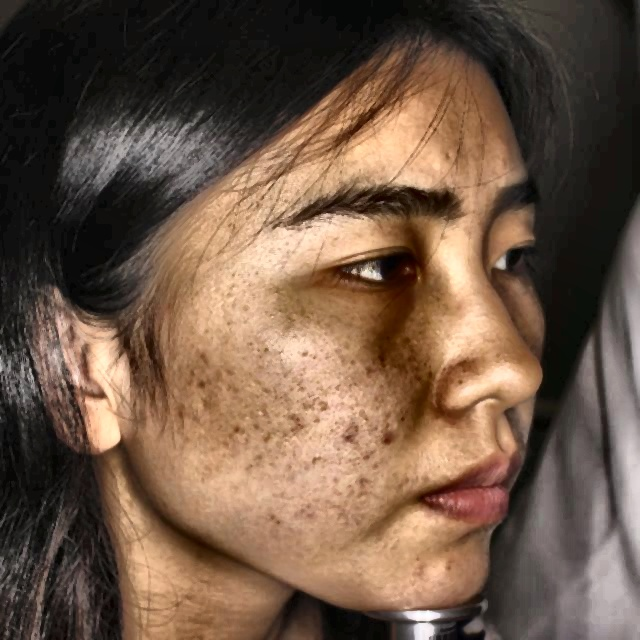comedone: (484, 132, 525, 164), (334, 416, 366, 450)
